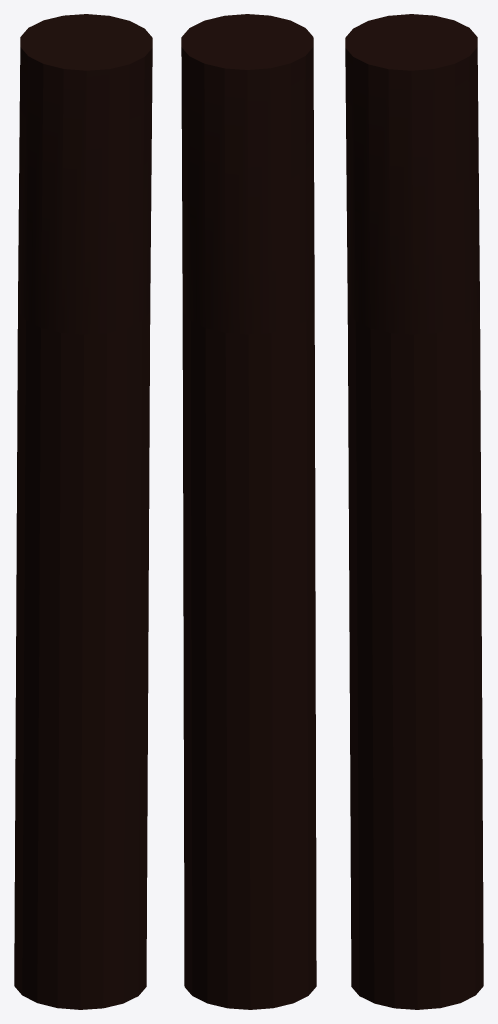
File: SM_tronc.FBX
3 renders of one model, left to right at view 1: azimuth 90°, elevation 25°; view 2: azimuth 210°, elevation 25°; view 3: azimuth 270°, elevation 25°, orthographic.
Visible parts, largest first — view 1: Cylinder006; view 2: Cylinder006; view 3: Cylinder006.
Part boxes in pixels (x1,y1,x2,y2): Cylinder006: (14, 14, 152, 1009); Cylinder006: (181, 14, 316, 1009); Cylinder006: (345, 14, 483, 1009).
Size of the model in its own units: 4.78 by 36.9 by 4.92.
